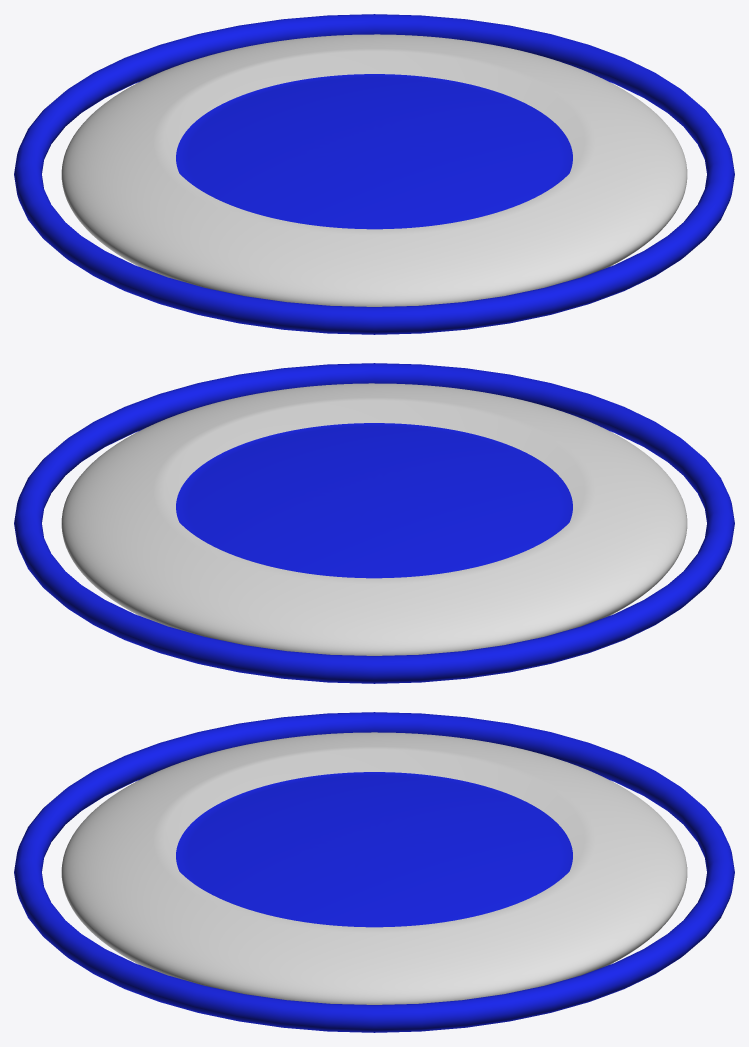
The model's file is Blue.gltf.
3 renders of one model, top to bottom at view 1: azimuth 30°, elevation 25°; view 2: azimuth 150°, elevation 25°; view 3: azimuth 270°, elevation 25°, orthographic.
Visible parts, largest first — view 1: Sphere; view 2: Sphere; view 3: Sphere.
Part boxes in pixels (bbox=[...]): Sphere: bbox=[14, 14, 734, 334]; Sphere: bbox=[14, 363, 734, 683]; Sphere: bbox=[14, 712, 734, 1032].
Size of the model in its own units: 6.2 by 0.7614 by 6.2.
